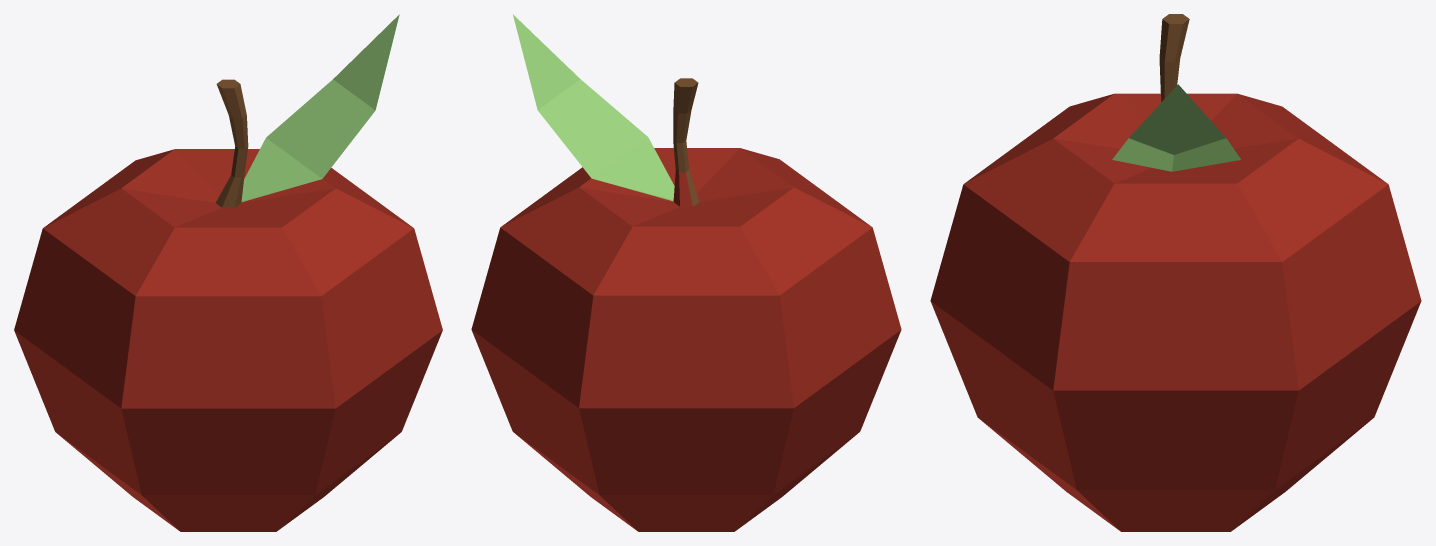
Rendered from Apple.fbx.
3 views of the same model, side by side, from view 1: azimuth 30°, elevation 25°; view 2: azimuth 150°, elevation 25°; view 3: azimuth 270°, elevation 25° (orthographic). The views are drawn at different scales.
Visible parts, largest first — view 1: Sphere.001; view 2: Sphere.001; view 3: Sphere.001.
Boxes of the visible parts, x1=… form: Sphere.001: x1=14, y1=14, x2=442, y2=531; Sphere.001: x1=471, y1=14, x2=901, y2=531; Sphere.001: x1=930, y1=14, x2=1421, y2=531.
Bounding box in the file's own units: 179 × 226 × 200.
